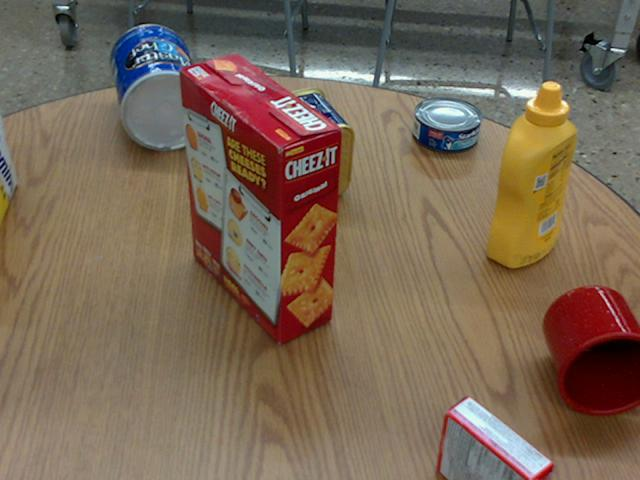cracker_box: (182, 56, 344, 342)
gelatin_box: (437, 397, 554, 479)
master_chef_can: (111, 25, 210, 150)
mug: (542, 285, 639, 415)
mustard_bottle: (486, 82, 576, 266)
potted_meat_can: (280, 86, 355, 199)
sugar_box: (0, 116, 17, 231)
tuna_fish_can: (413, 95, 482, 152)
